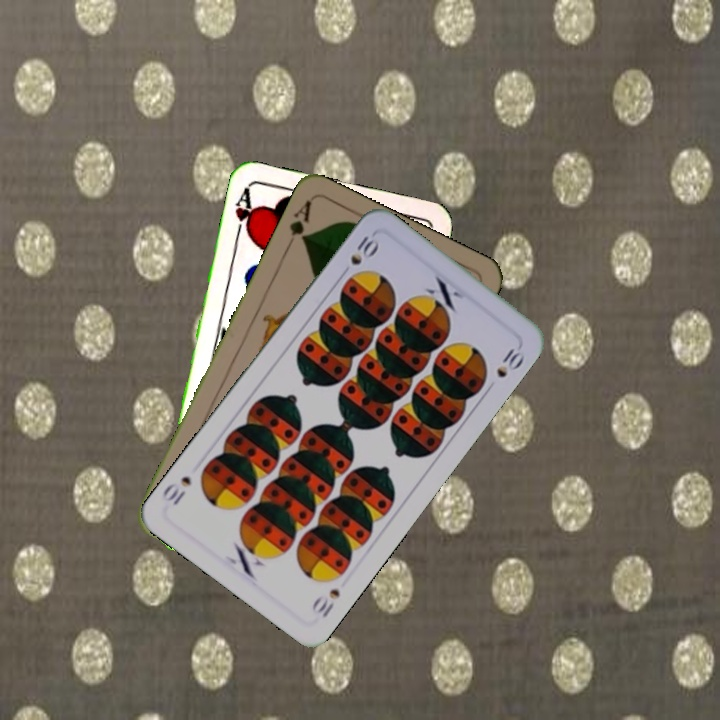GA: (282, 196, 315, 252)
HA: (230, 184, 258, 243)
S10: (336, 231, 382, 280), (307, 584, 343, 621)
